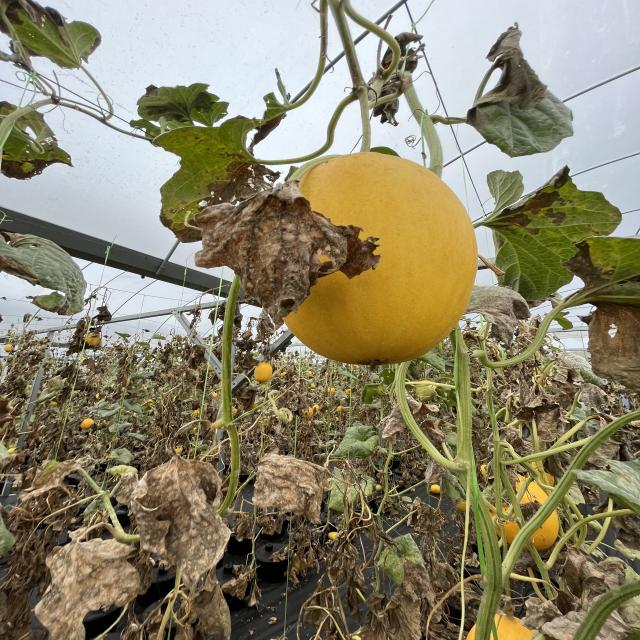bacterial wilt: (196, 182, 359, 306), (468, 169, 622, 296), (128, 457, 231, 587), (144, 122, 267, 223), (563, 244, 640, 384), (0, 230, 101, 312), (370, 535, 438, 640), (0, 0, 107, 61), (240, 454, 328, 521), (35, 450, 87, 500), (511, 381, 560, 419), (36, 370, 87, 403), (180, 342, 208, 369)
